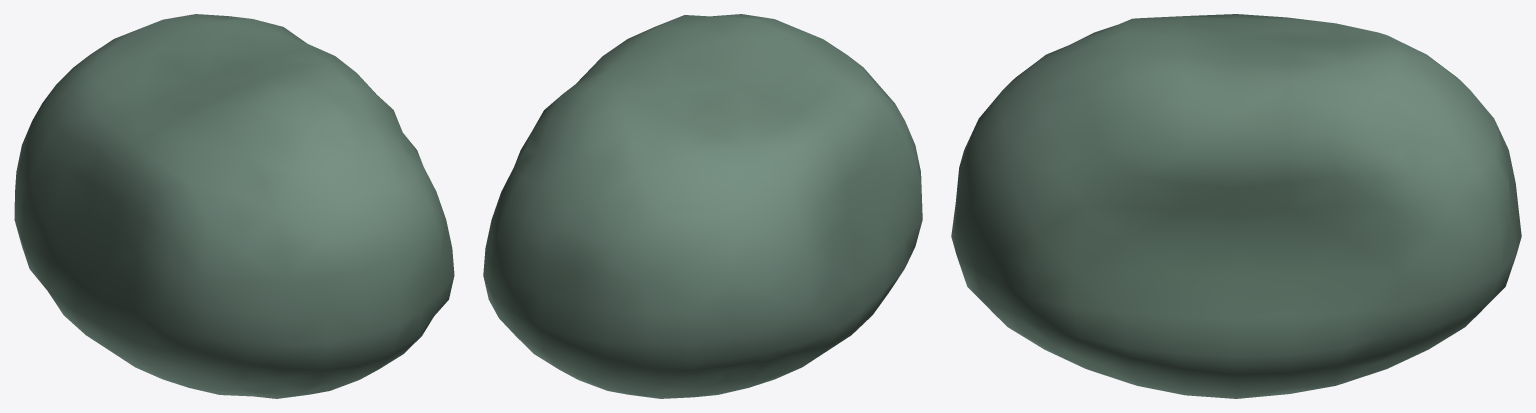
File: microscopic-pollen-spores-smooth-pollen_v1.glb
The picture shows the model from 3 angles, left to right: view 1: azimuth 30°, elevation 25°; view 2: azimuth 150°, elevation 25°; view 3: azimuth 270°, elevation 25°; orthographic projection. The views are drawn at different scales.
Parts seen in each view (by area): view 1: Smooth Pollen; view 2: Smooth Pollen; view 3: Smooth Pollen.
Boxes of the visible parts, x1,y1,x2,y2 form: Smooth Pollen: [14, 14, 454, 398]; Smooth Pollen: [483, 14, 922, 398]; Smooth Pollen: [951, 14, 1521, 398].
Bounding box in the file's own units: 0.2171 × 0.1973 × 0.3.
